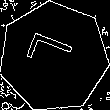L_E: (25, 34, 83, 80)
